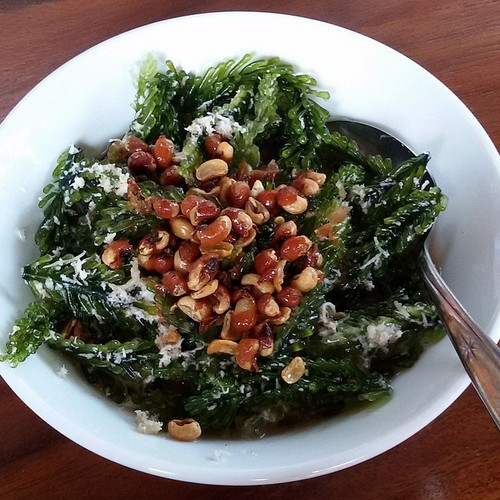bulung buni: (37, 57, 407, 411)
